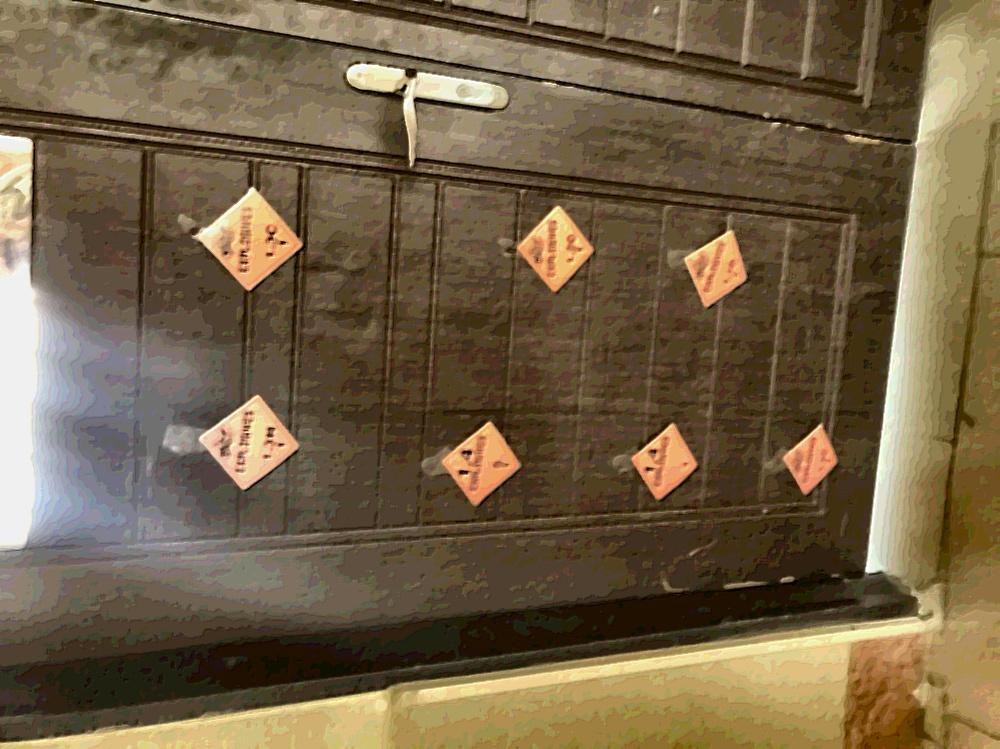explosive: (194, 184, 307, 297), (195, 390, 301, 493), (514, 204, 598, 297), (442, 421, 526, 512), (628, 422, 704, 505), (684, 225, 754, 310), (780, 421, 840, 500)
